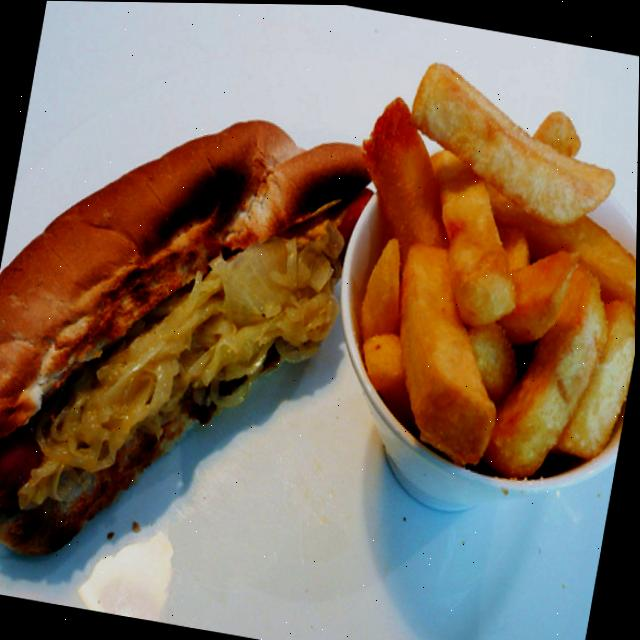汉堡快餐: (0, 43, 398, 622)
炸货点心: (306, 39, 640, 513)
